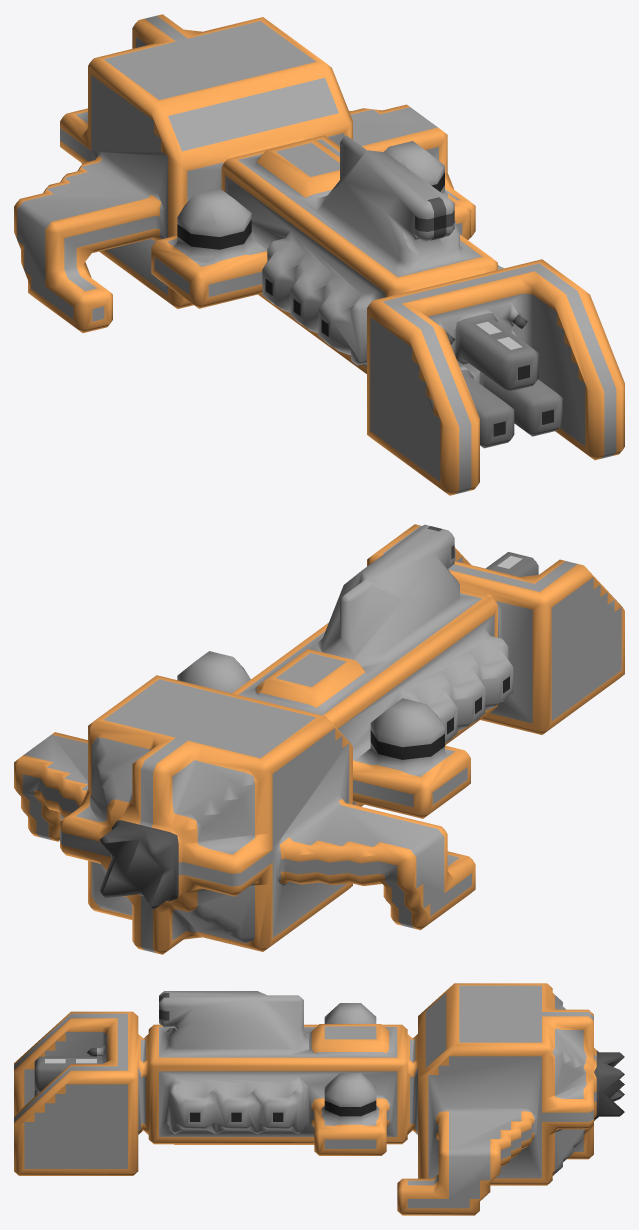
Rendered from ndrc-3-voorhoede-class.obj.
The picture shows the model from 3 angles, top to bottom: view 1: azimuth 30°, elevation 25°; view 2: azimuth 150°, elevation 25°; view 3: azimuth 270°, elevation 25°; orthographic projection. The views are drawn at different scales.
Bounding box in the file's own units: 33 × 17 × 59.
Materials: 1 (1 with a texture image).
